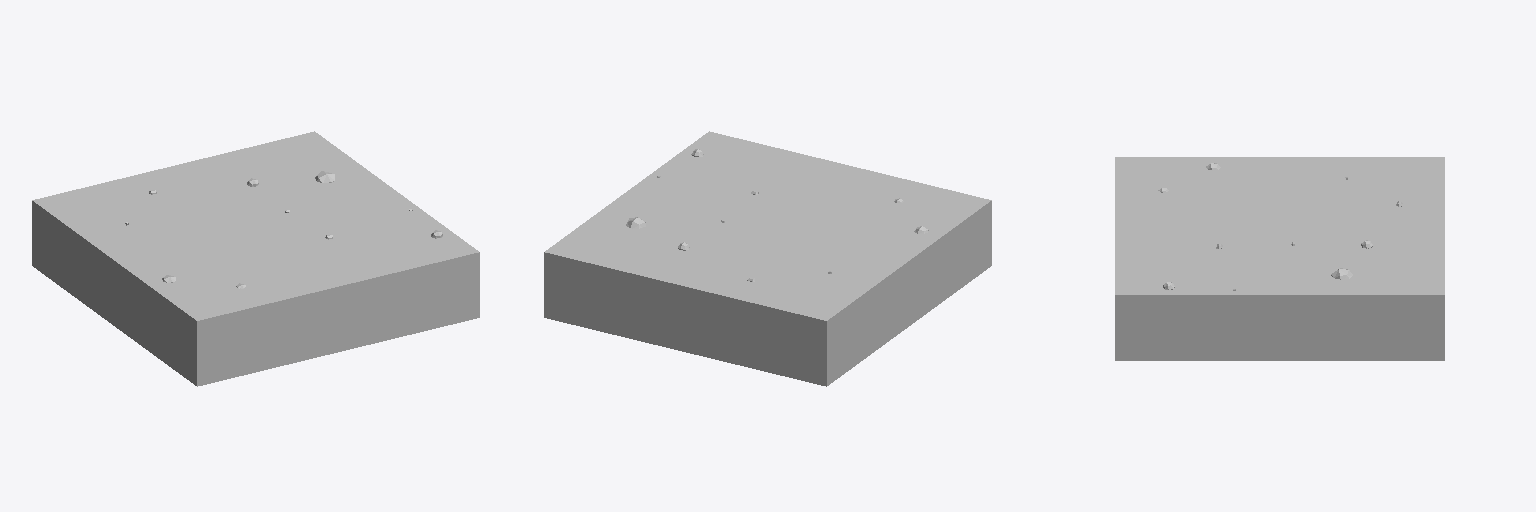
File: platform.obj
3 views of the same model, side by side, from view 1: azimuth 30°, elevation 25°; view 2: azimuth 150°, elevation 25°; view 3: azimuth 270°, elevation 25° (orthographic).
Visible parts, largest first — view 1: polySurface930; view 2: polySurface930; view 3: polySurface930.
Part boxes in pixels (left/top/right/bottom): polySurface930: left=32, top=131, right=479, bottom=386; polySurface930: left=544, top=131, right=991, bottom=386; polySurface930: left=1115, top=157, right=1444, bottom=360.
Size of the model in its own units: 4.95 by 1.2 by 5.